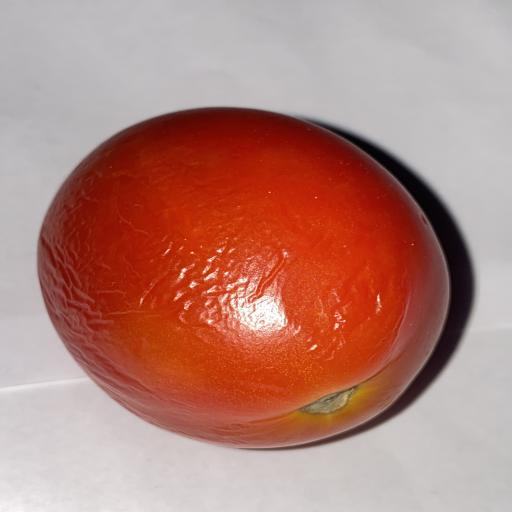spoiled: (38, 108, 449, 447)
